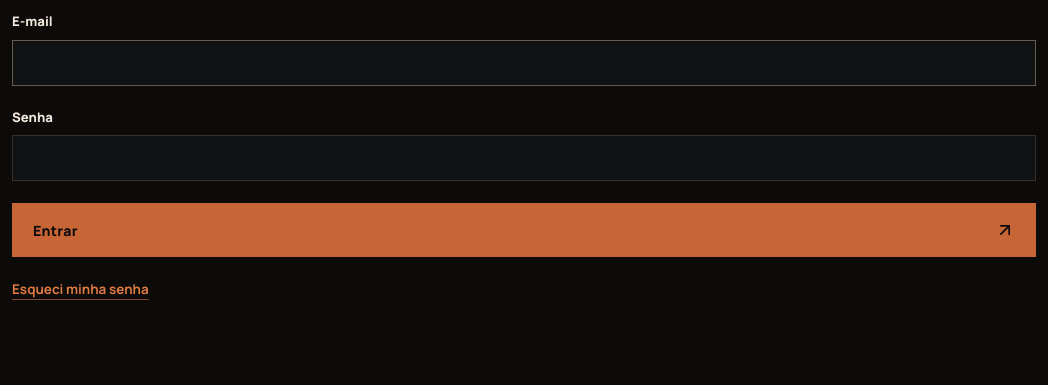
Test: LoginForm › exibe erro genérico sem colocar a senha em logs, URL ou estado visível
The width and height of the screenshot is (1048, 385).
In the field labelled "E-mail": coordinates (524, 63) [12,40,1036,86], type "ana@example.com"
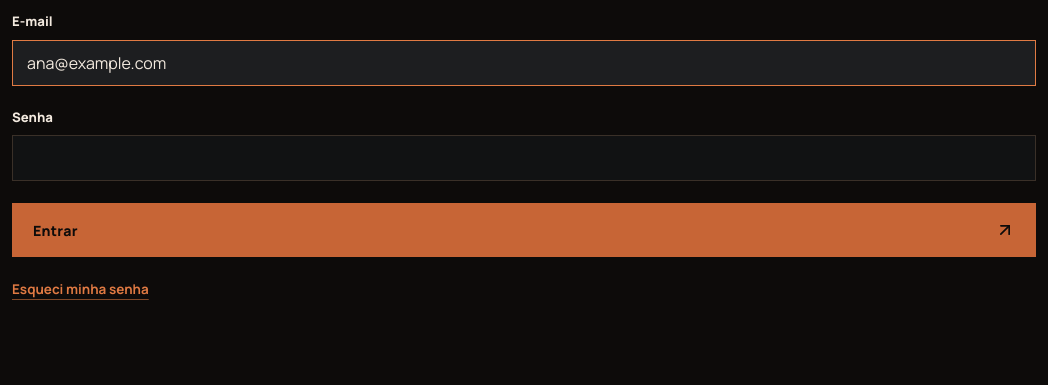
In the password field labelled "Senha": coordinates (524, 158) [12,135,1036,181], type "Senha-privada-123!"
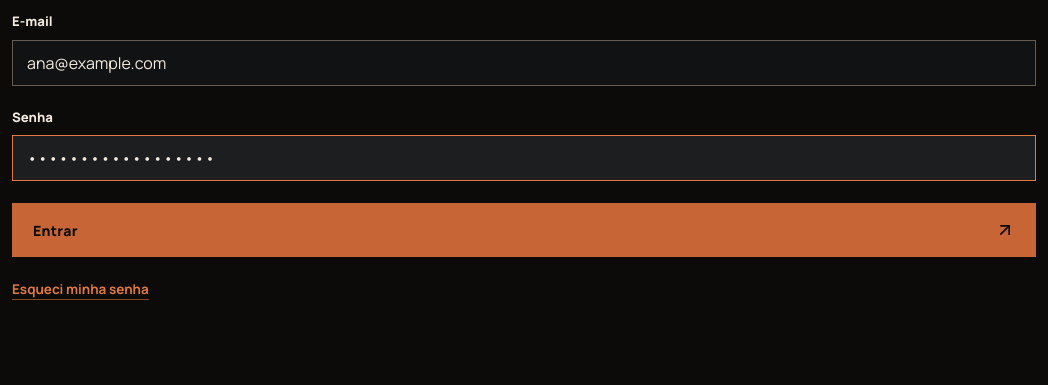
Click the button "Entrar": coordinates (55, 230) [12,203,1036,257]
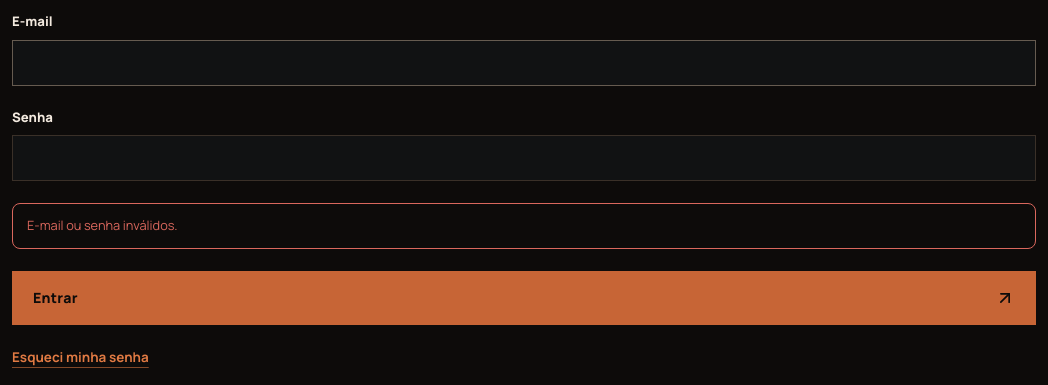
Check: the message reads "E-mail ou senha inválidos.", box [27,216,178,234]
